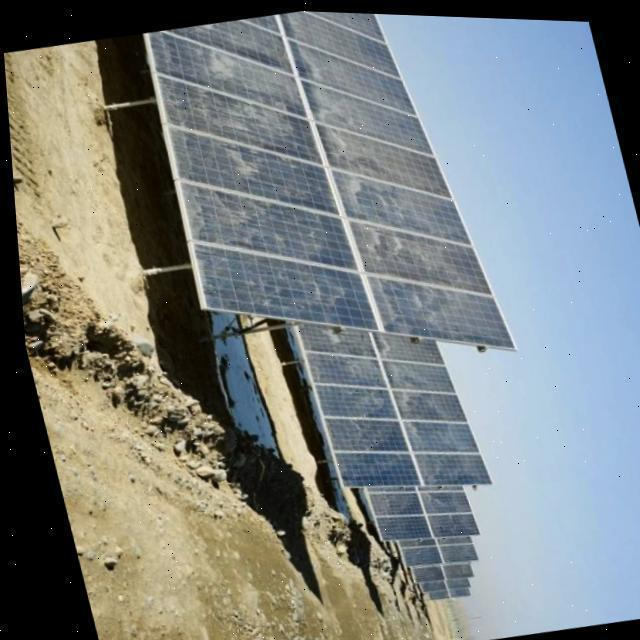Anomaly Solar Panel: (279, 8, 512, 344), (145, 11, 373, 327), (289, 318, 413, 484), (363, 328, 486, 481)
Surface Contaminant: (156, 72, 321, 163), (167, 122, 337, 207), (189, 240, 344, 323), (148, 28, 305, 109), (175, 177, 328, 258), (361, 270, 510, 344), (345, 217, 491, 292), (328, 166, 468, 241), (323, 121, 451, 195), (308, 81, 433, 153), (296, 39, 415, 110), (286, 8, 402, 76), (168, 17, 295, 74), (303, 348, 381, 384), (318, 414, 398, 448), (409, 449, 486, 482), (309, 381, 385, 414), (290, 321, 368, 353), (378, 354, 447, 390), (307, 9, 387, 39), (327, 449, 394, 484), (396, 416, 470, 447), (372, 329, 440, 362), (385, 386, 456, 417)
